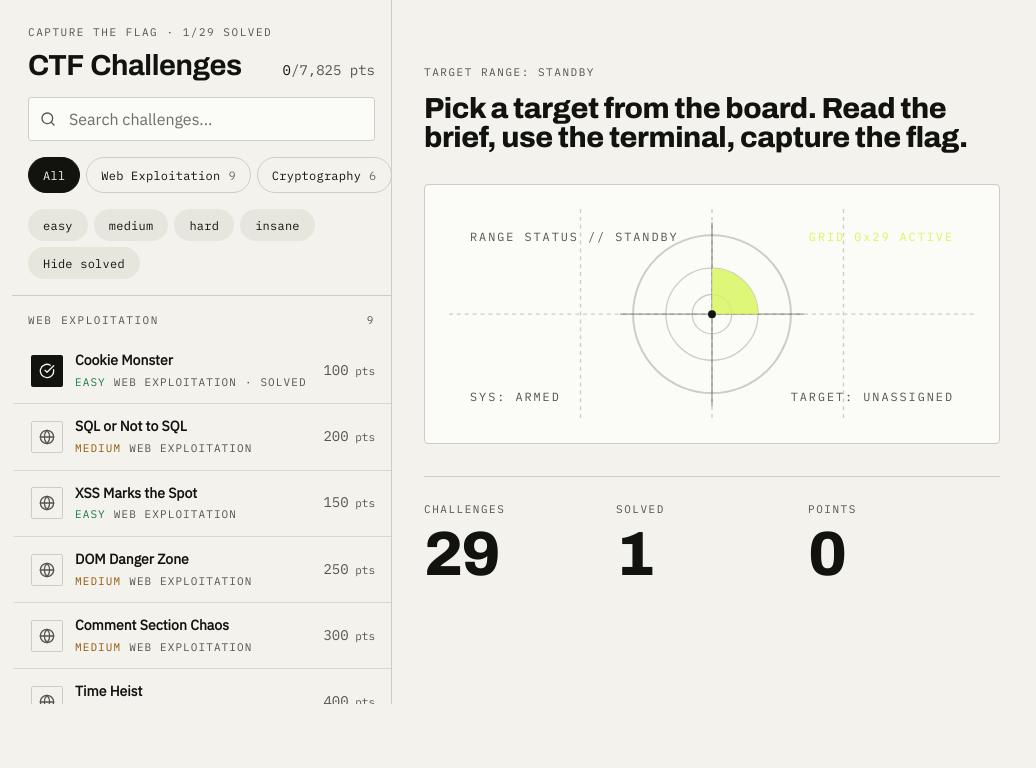
CTFChallenges hide solved › removes solved challenges from the board when toggled
The width and height of the screenshot is (1036, 768).
Expected: the text "Cookie Monster" is shown, [75,351,173,369]
Click the button "Hide solved": (84, 264) [28,248,140,280]
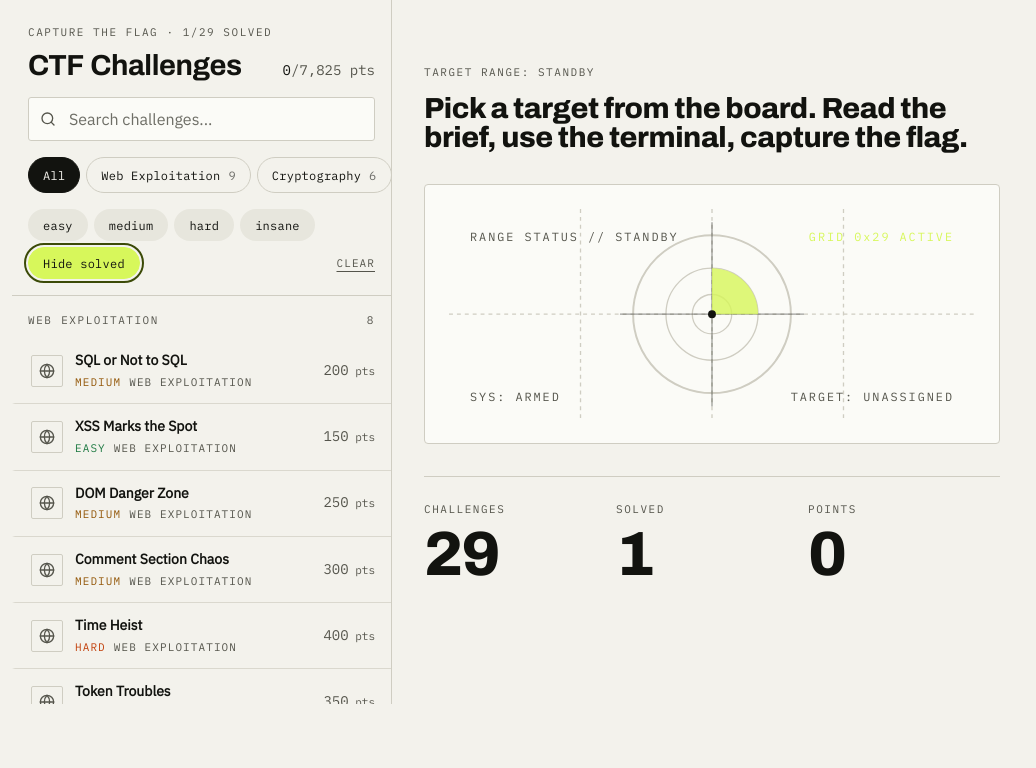
Expected: the button "Cookie Monster" is gone
